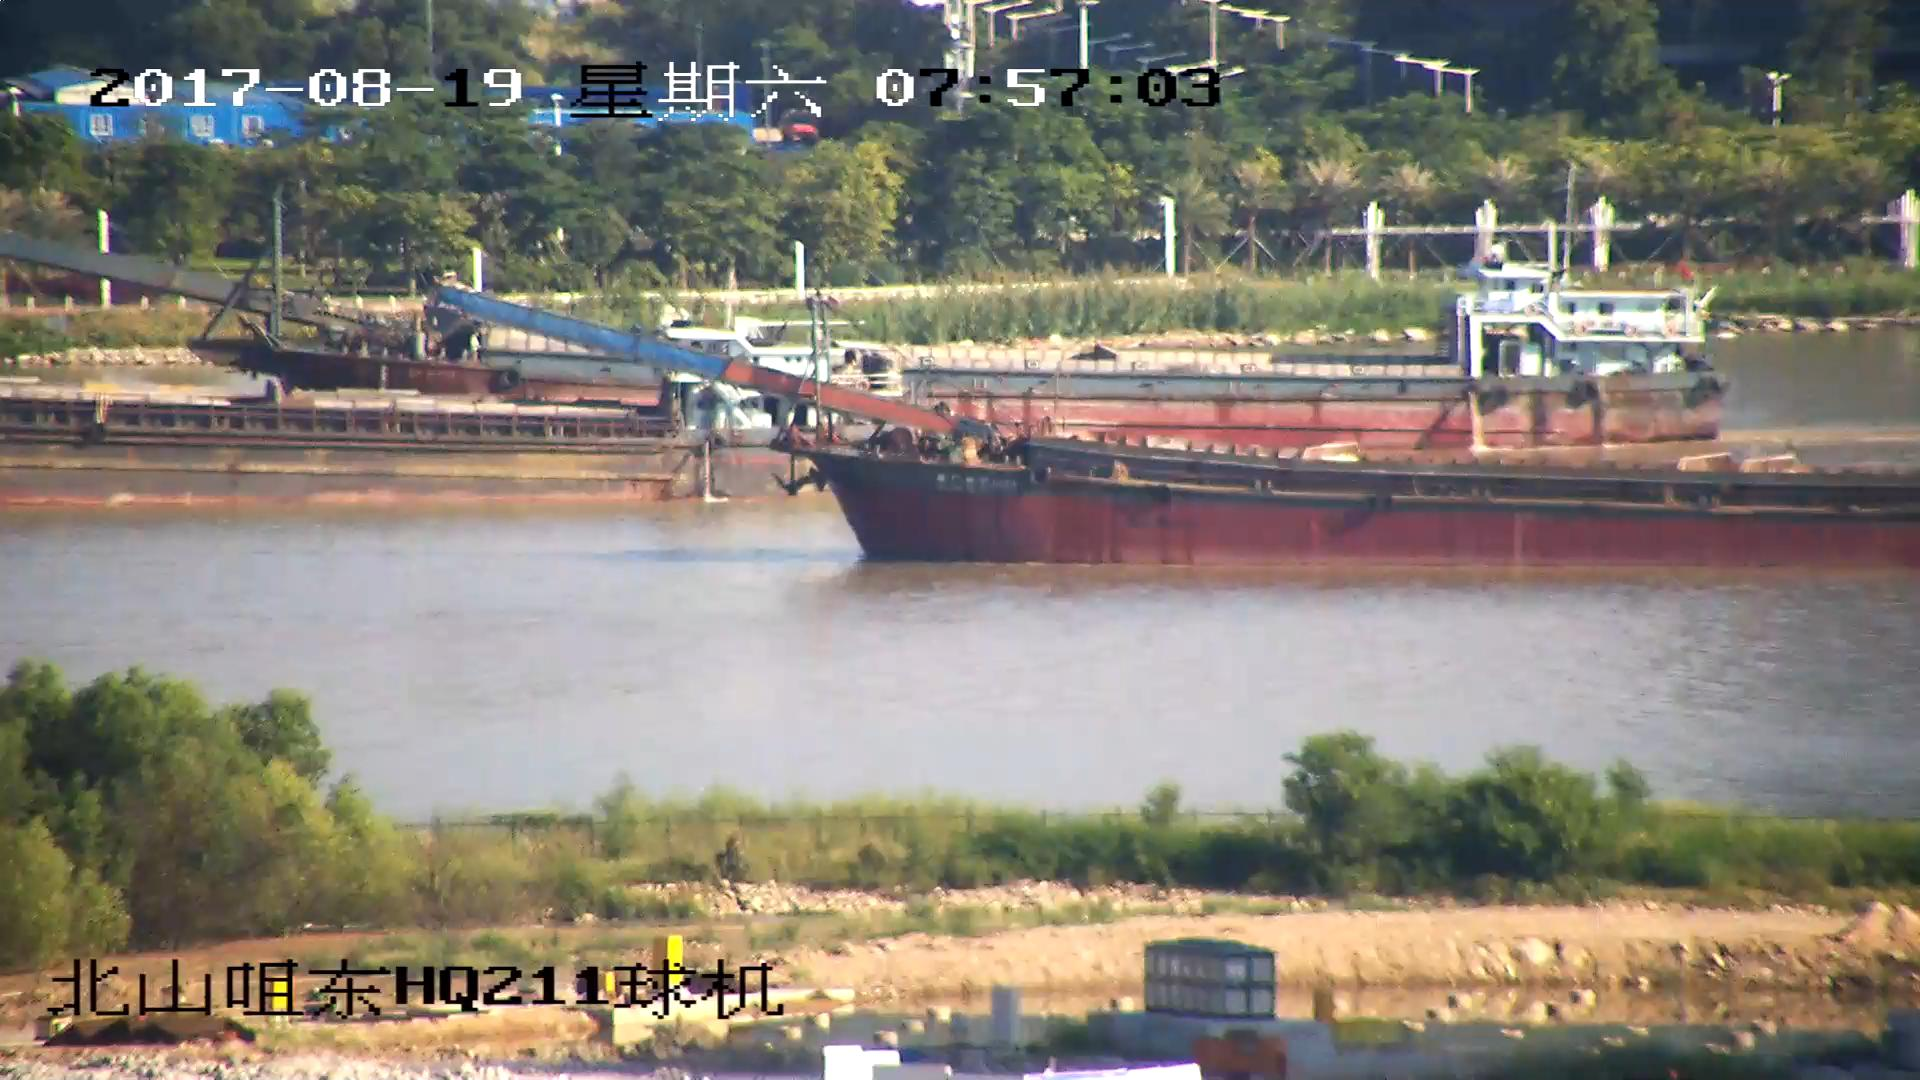bulk cargo carrier: (434, 283, 1920, 569), (6, 231, 1706, 373), (1, 386, 780, 502)
